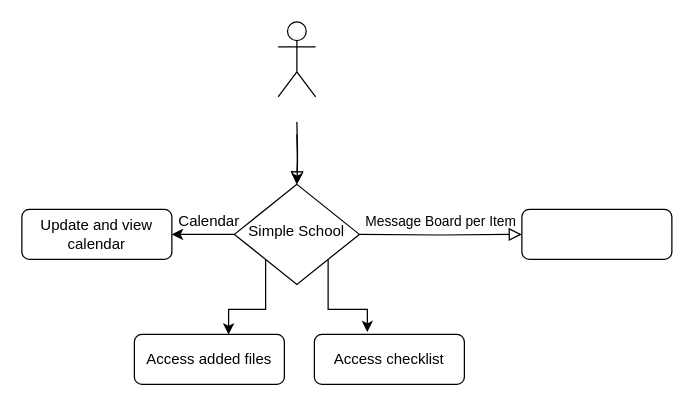
Image size: 694x406. Some labels were removed from this diagram. The centre of each missing label's shape, as x and y in pixels:
"Message with professor, TAs, and classmates" belongs at point 596,233.
"User" belongs at point 296,59.
